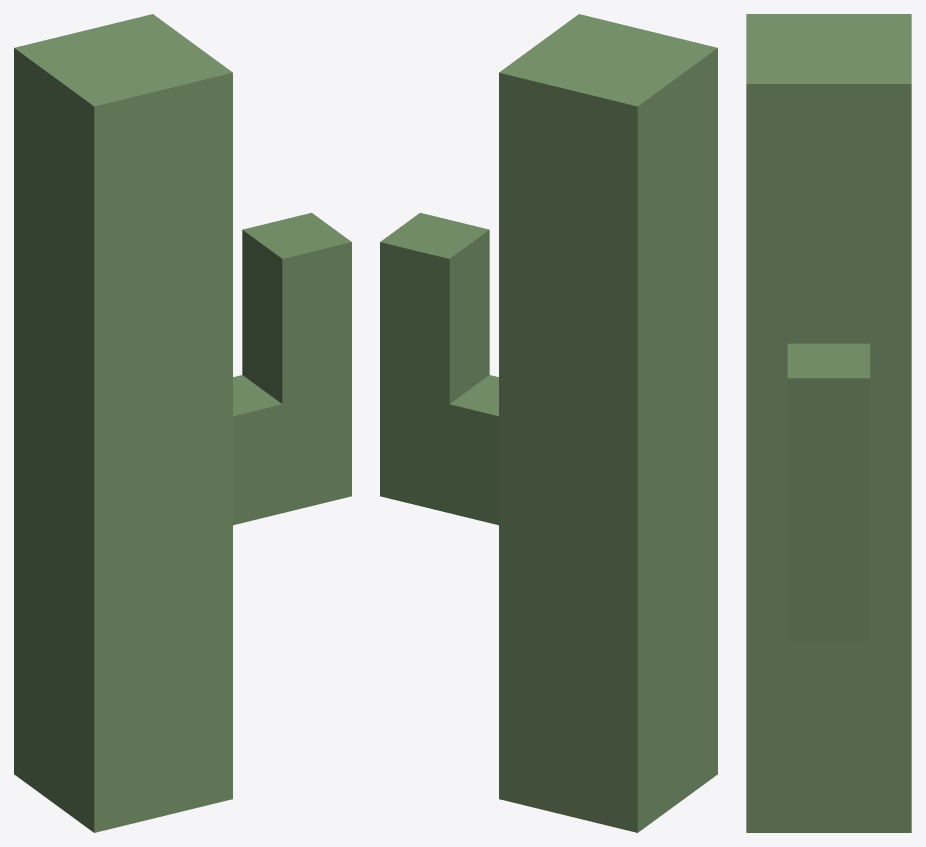
Rendered from saguaro_02.glb.
3 views of the same model, side by side, from view 1: azimuth 30°, elevation 25°; view 2: azimuth 150°, elevation 25°; view 3: azimuth 270°, elevation 25° (orthographic). The views are drawn at different scales.
Visible parts, largest first — view 1: saguaro_02; view 2: saguaro_02; view 3: saguaro_02.
Part boxes in pixels (bbox=[...]): saguaro_02: bbox=[14, 14, 351, 832]; saguaro_02: bbox=[380, 14, 717, 832]; saguaro_02: bbox=[746, 14, 911, 832].
Size of the model in its own units: 0.8 by 2 by 0.4.
